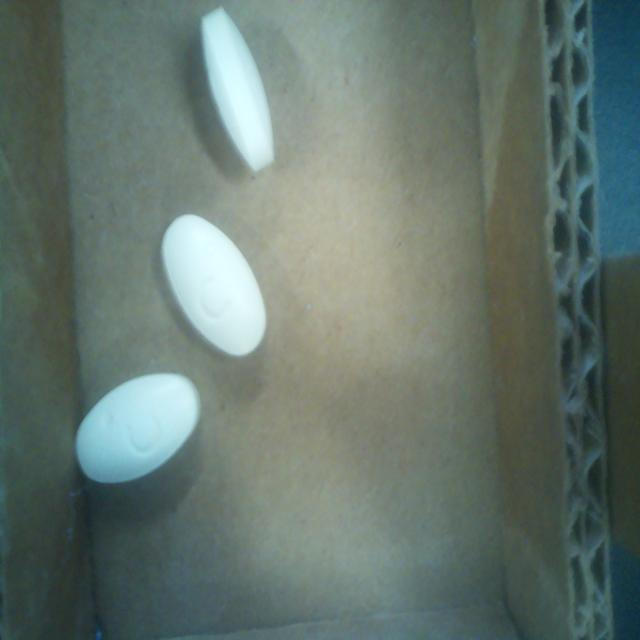pill: (161, 215, 266, 356), (75, 373, 200, 484), (201, 8, 274, 172)
